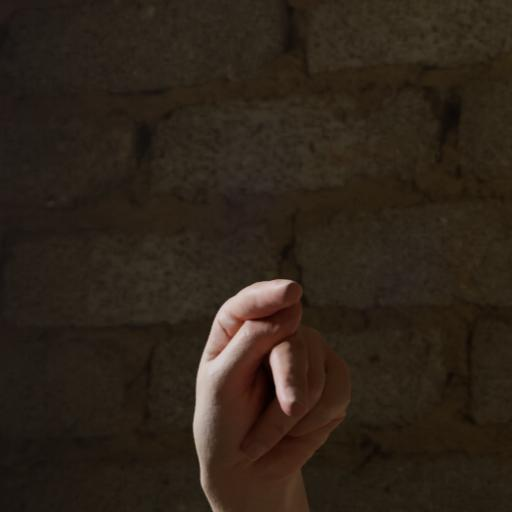P: (178, 267, 376, 512)
